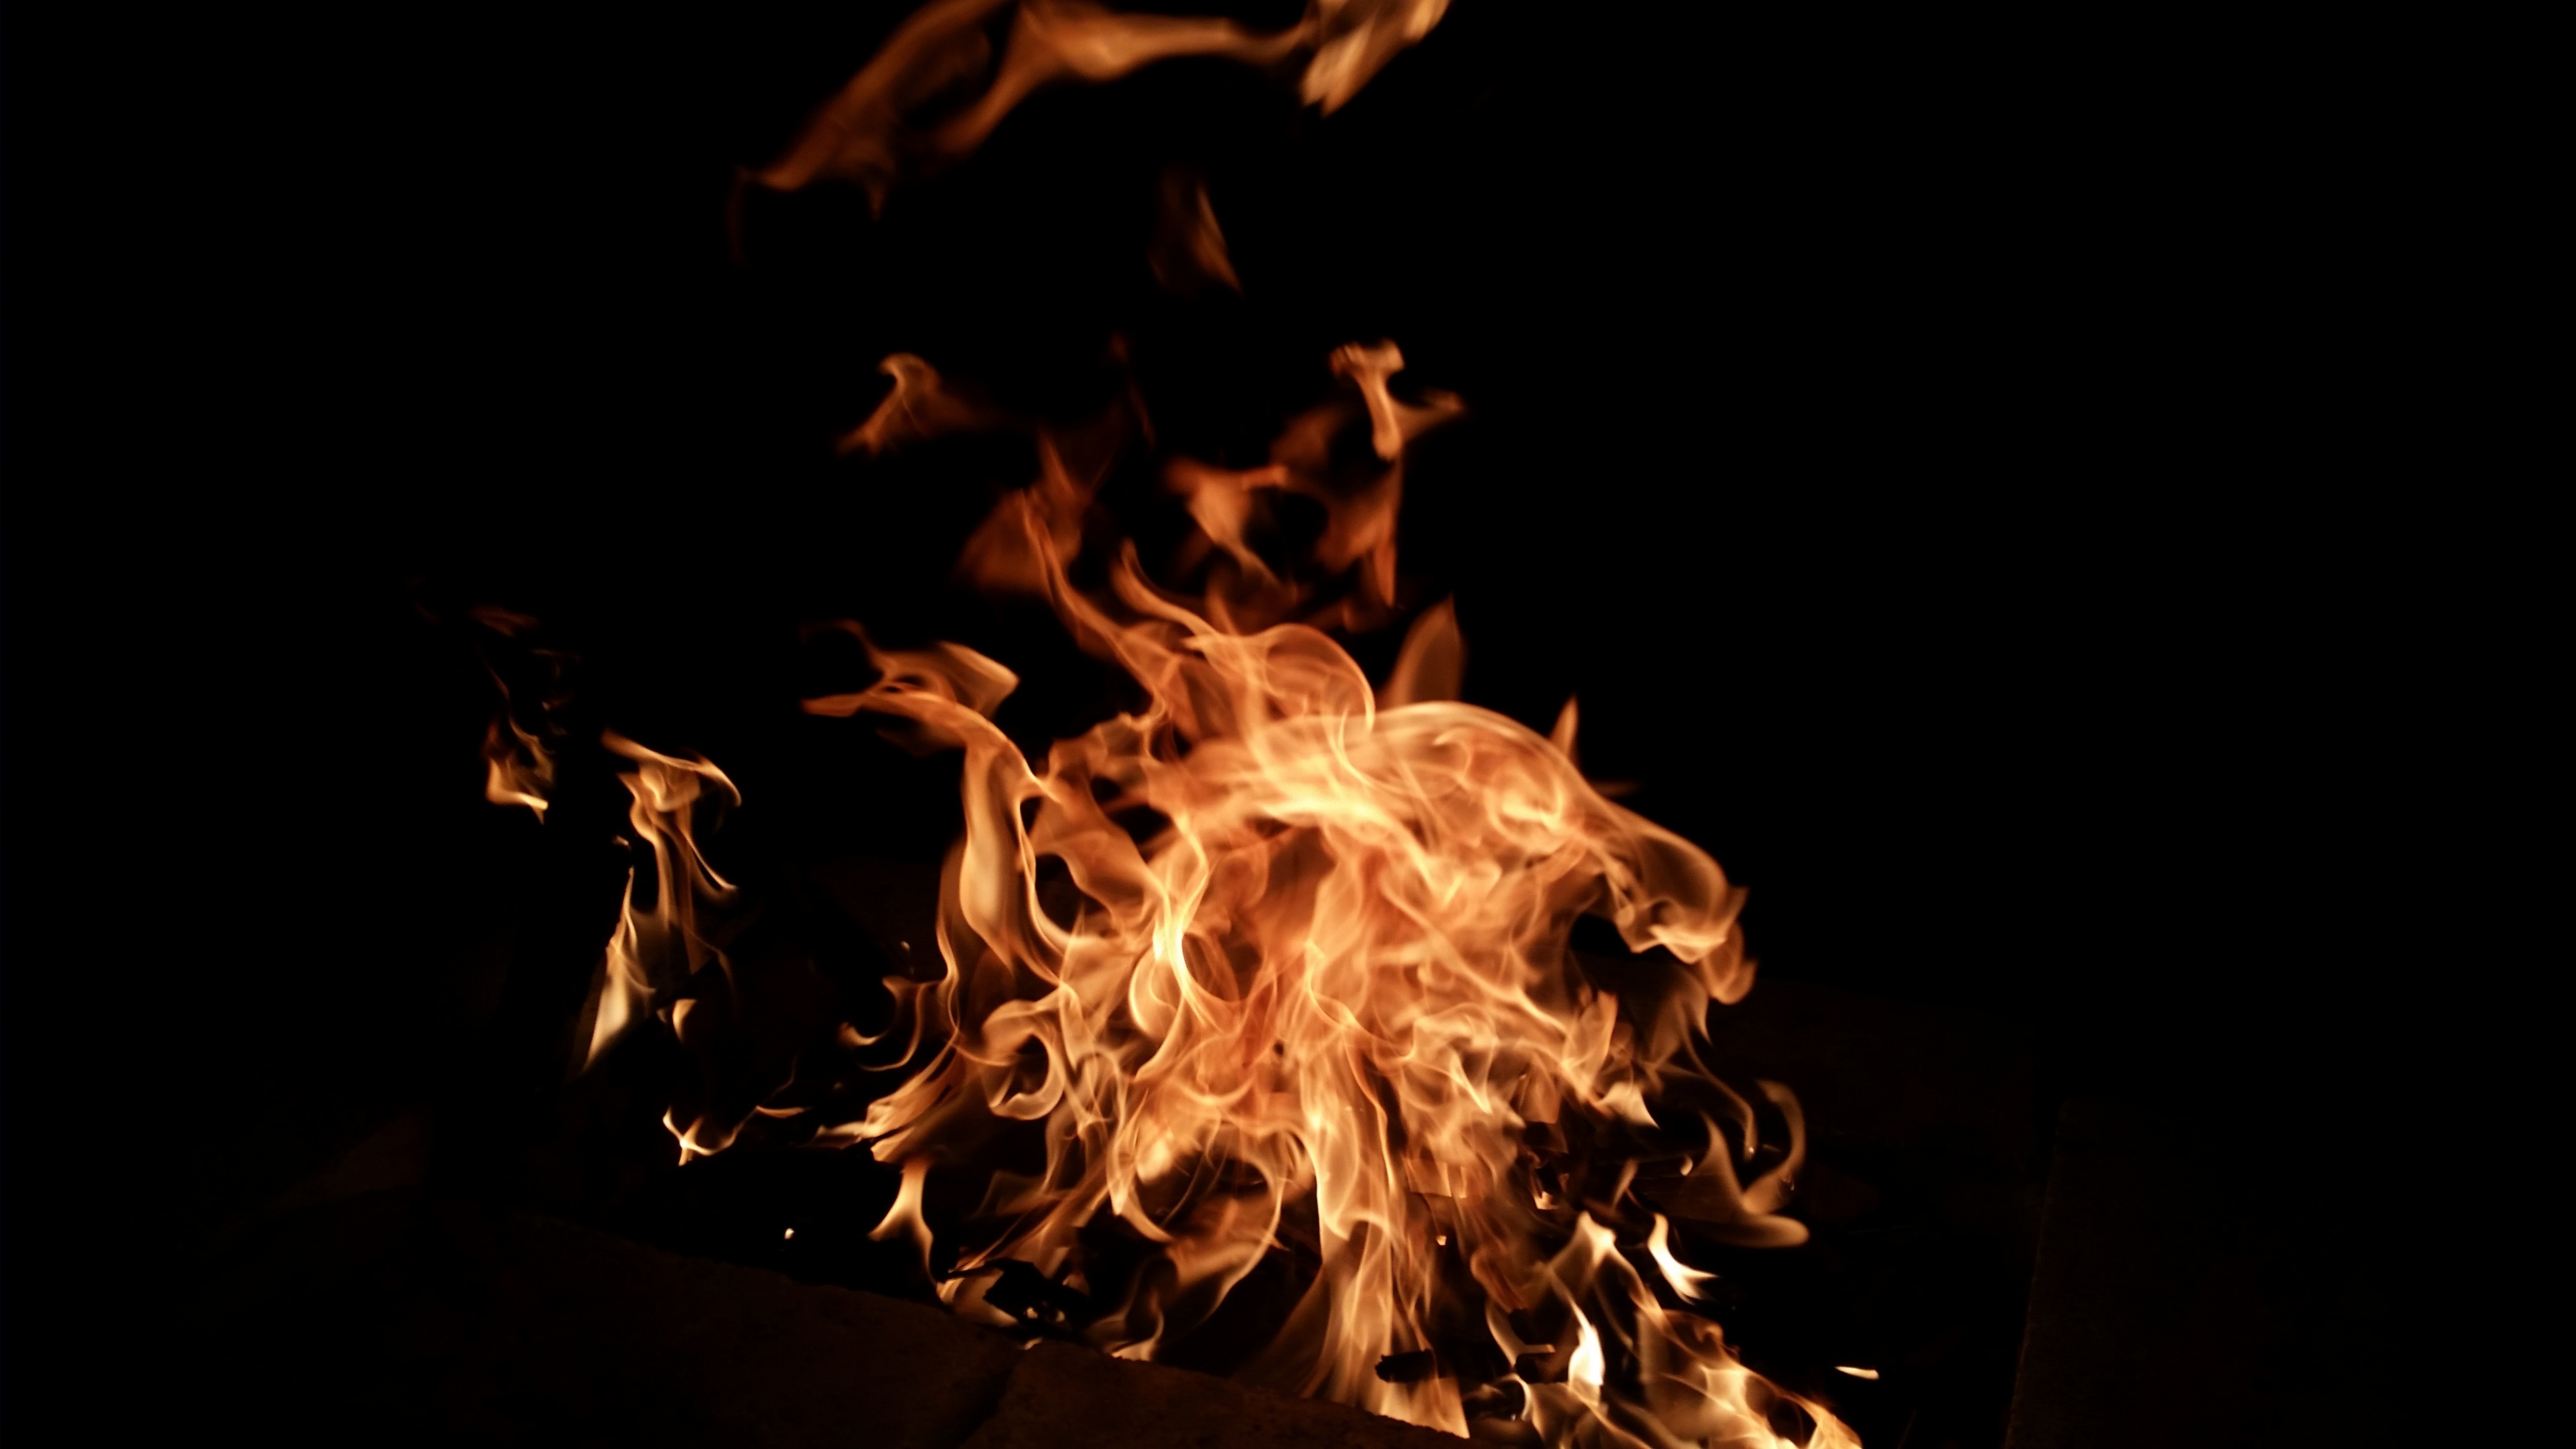fire: (763, 83, 1859, 1445)
